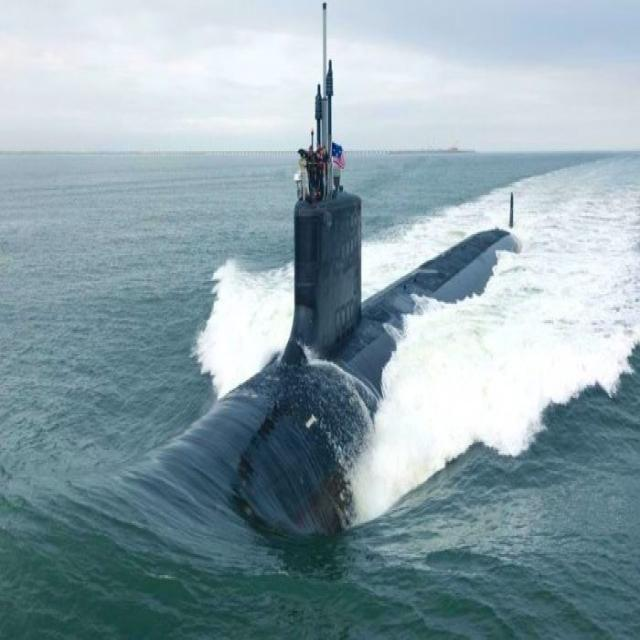Submarine-Arihant-Class-IND: (19, 2, 528, 614)
